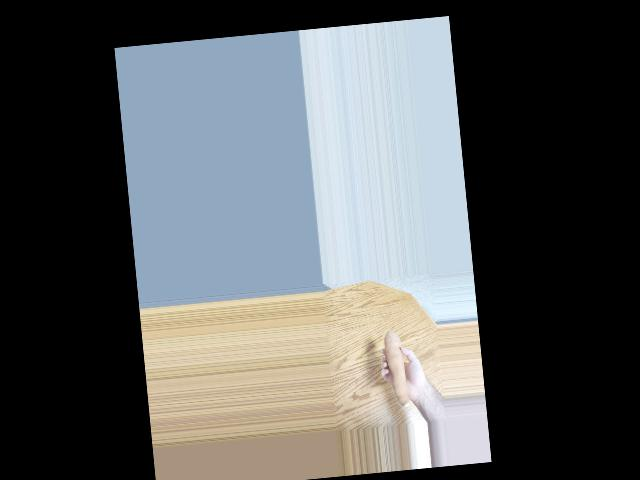sweet_potato: (377, 327, 408, 405)
